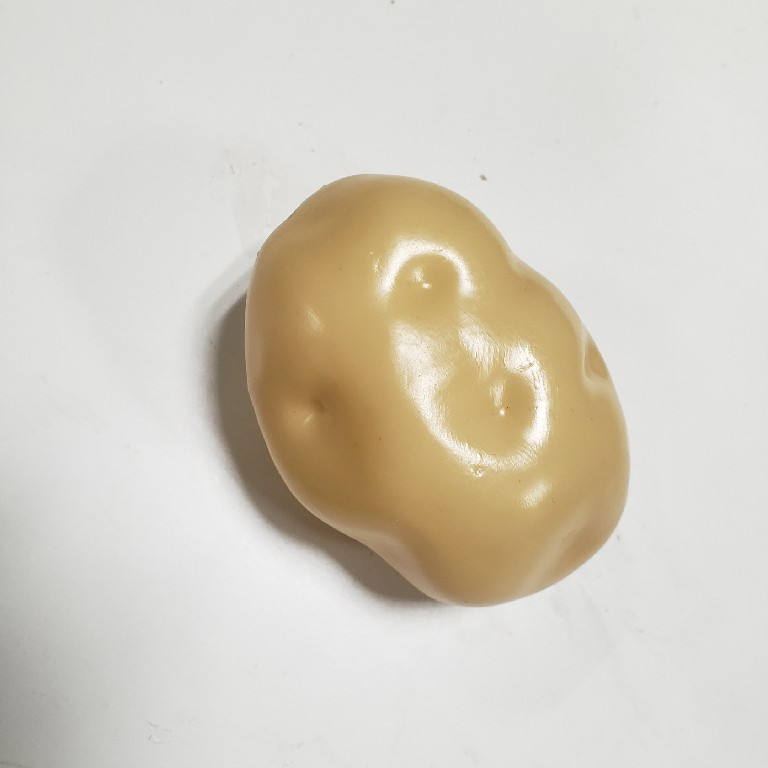fruit_potato: (240, 168, 633, 613)
